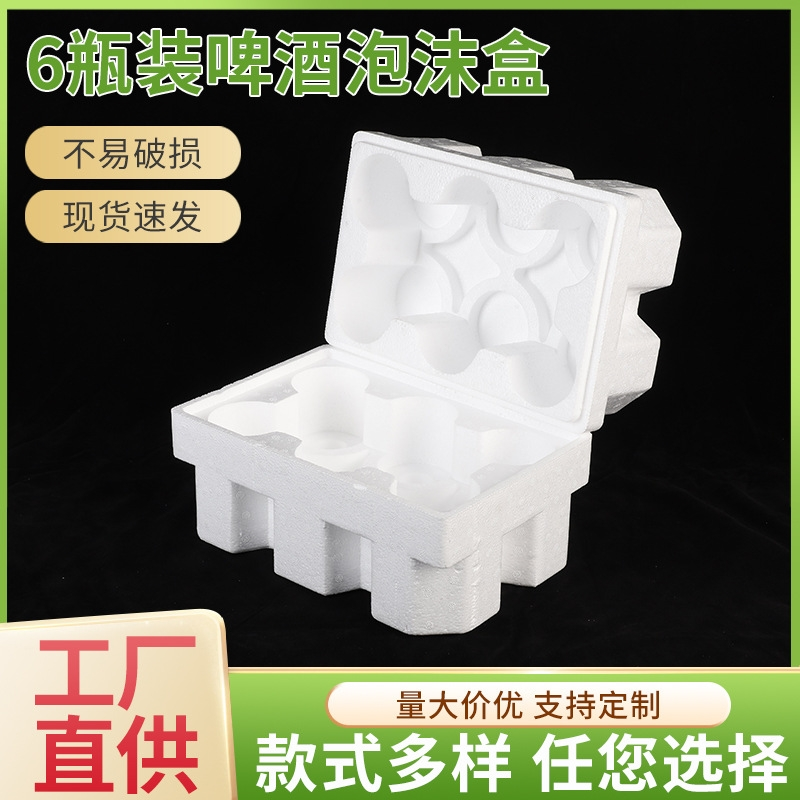泡沫箱: (172, 132, 681, 635)
